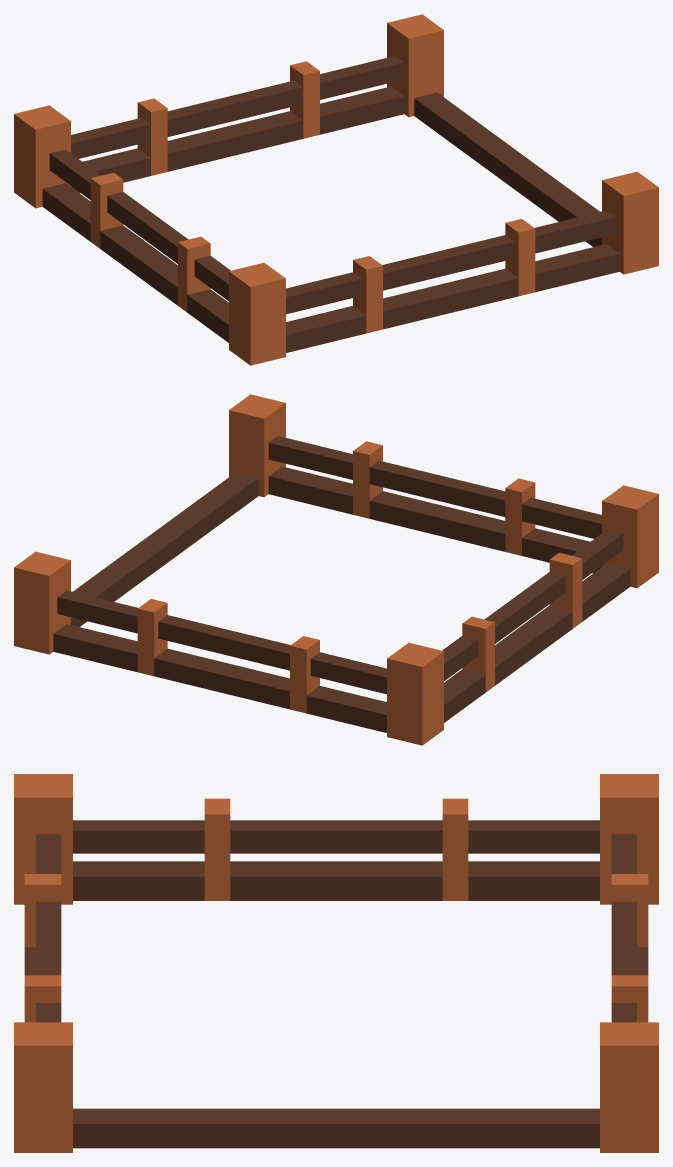
Rendered from pit_01.fbx.
3 views of the same model, one above another, from view 1: azimuth 30°, elevation 25°; view 2: azimuth 150°, elevation 25°; view 3: azimuth 270°, elevation 25° (orthographic). The views are drawn at different scales.
Visible parts, largest first — view 1: Cube.143; view 2: Cube.143; view 3: Cube.143.
Boxes of the visible parts, x1=… form: Cube.143: x1=14, y1=14, x2=658, y2=365; Cube.143: x1=14, y1=394, x2=658, y2=745; Cube.143: x1=14, y1=774, x2=658, y2=1152.
Bounding box in the file's own units: 898 × 165 × 901.
